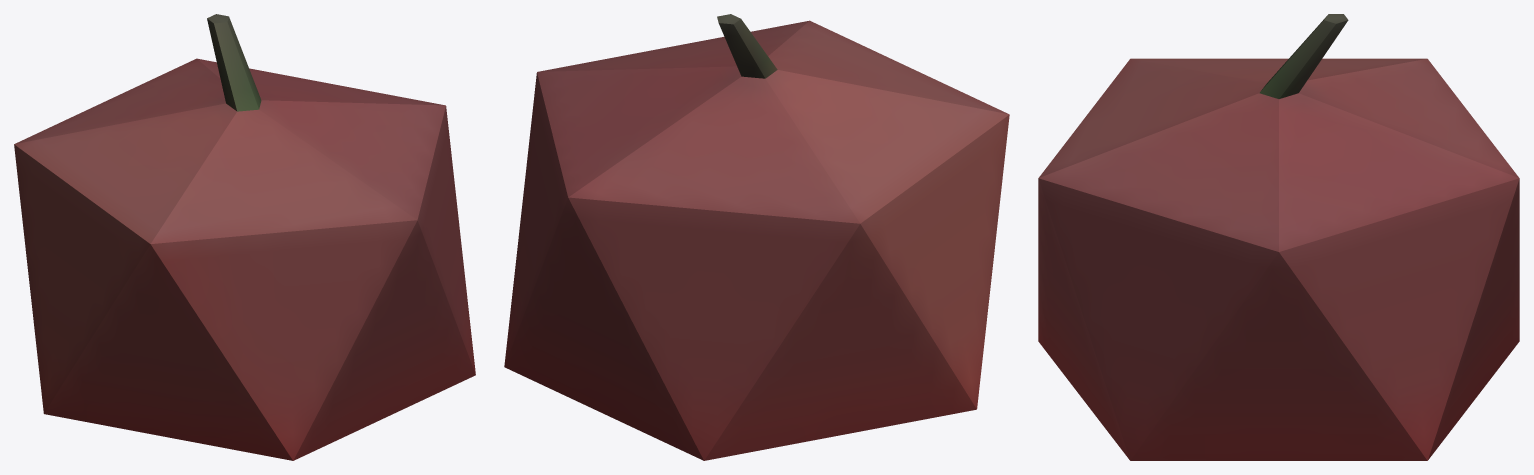
Rendered from elmaK.fbx.
The picture shows the model from 3 angles, left to right: view 1: azimuth 30°, elevation 25°; view 2: azimuth 150°, elevation 25°; view 3: azimuth 270°, elevation 25°; orthographic projection. The views are drawn at different scales.
Visible parts, largest first — view 1: Icosphere; view 2: Icosphere; view 3: Icosphere.
Part boxes in pixels (<box>): Icosphere: <box>14,14,475,460</box>; Icosphere: <box>504,14,1009,460</box>; Icosphere: <box>1038,14,1519,460</box>.
Size of the model in its own units: 34.05 by 31.99 by 32.38.
